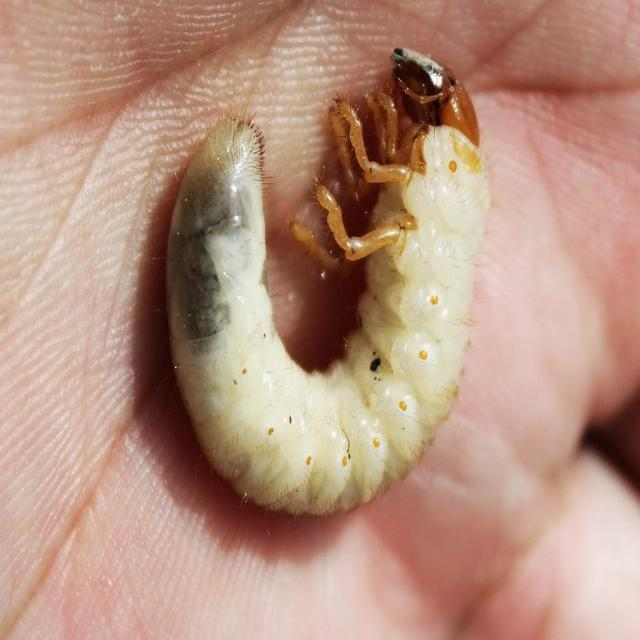grub: (139, 43, 491, 533)
